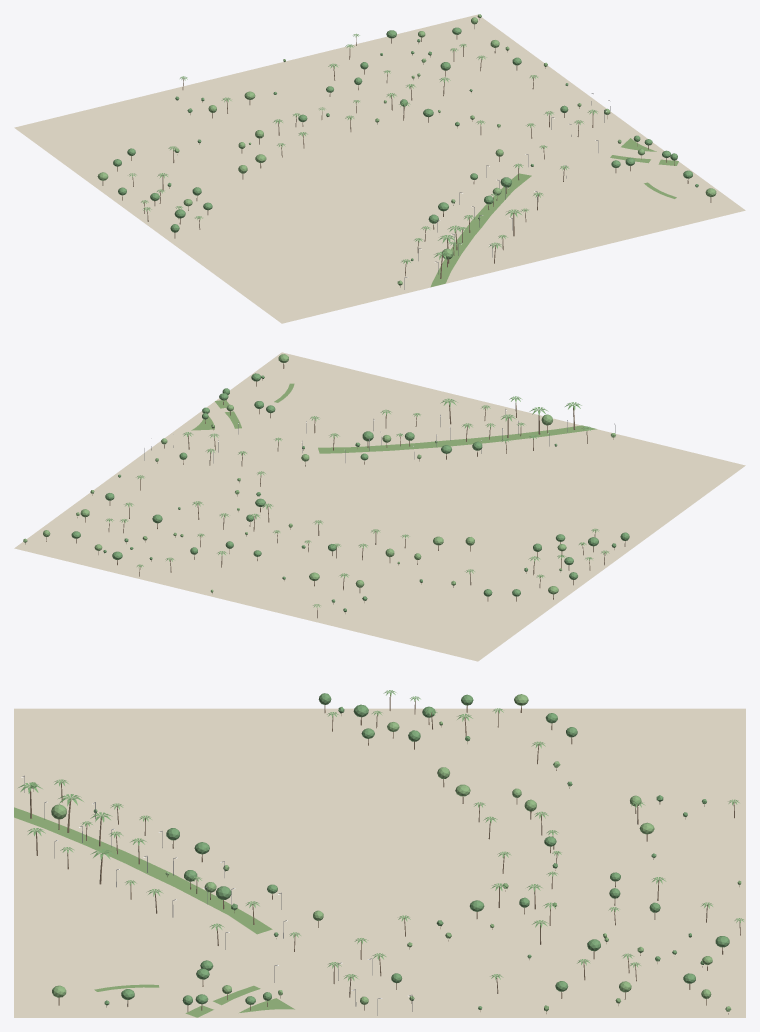
The model's file is nature_-3_0.glb.
3 renders of one model, top to bottom at view 1: azimuth 30°, elevation 25°; view 2: azimuth 150°, elevation 25°; view 3: azimuth 270°, elevation 25°, orthographic. The views are drawn at different scales.
Parts seen in each view (by area): view 1: ground, foliage_a, grass, palm_leaf, trunk, foliage_b; view 2: ground, grass, foliage_a, palm_leaf, foliage_b, trunk; view 3: ground, grass, foliage_a, palm_leaf, foliage_b, trunk.
Part boxes in pixels (x1,y1,x2,y2): ground: (14, 14, 745, 323); foliage_a: (113, 27, 698, 260); grass: (430, 138, 678, 287); palm_leaf: (129, 33, 597, 264); trunk: (102, 18, 711, 287); foliage_b: (97, 14, 716, 285); ground: (14, 352, 745, 661); grass: (191, 383, 596, 453); foliage_a: (71, 373, 629, 611); palm_leaf: (105, 396, 609, 607); foliage_b: (23, 354, 615, 594); trunk: (25, 363, 625, 618); ground: (14, 708, 745, 1017); grass: (14, 807, 294, 1017); foliage_a: (93, 693, 729, 1009); palm_leaf: (18, 690, 743, 980); foliage_b: (29, 694, 741, 1011); trunk: (30, 694, 740, 1014).
Bounding box in the file's own units: 251 × 13.42 × 250.
